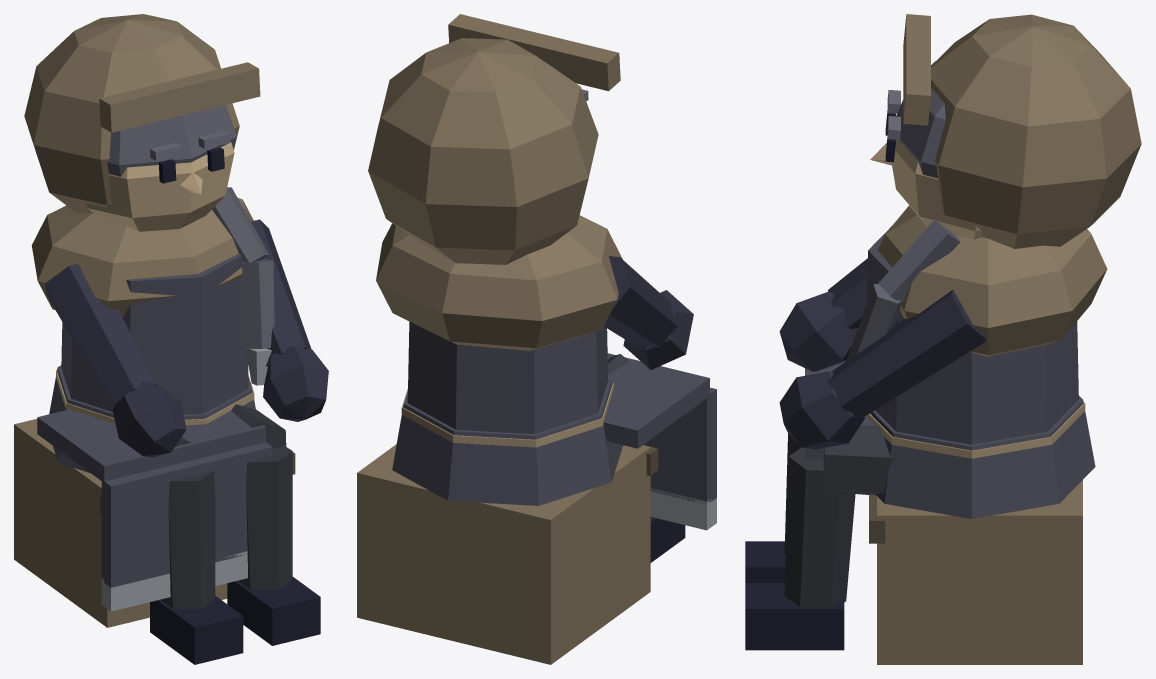
File: wenna_coll.glb
3 renders of one model, left to right at view 1: azimuth 30°, elevation 25°; view 2: azimuth 150°, elevation 25°; view 3: azimuth 270°, elevation 25°, orthographic. The views are drawn at different scales.
Visible parts, largest first — view 1: Head, Torso, LegL, Stool, LegR, ArmR, ArmL; view 2: Torso, Head, Stool, LegL, ArmR, LegR; view 3: Torso, Head, Stool, LegL, ArmL, ArmR, LegR.
Part boxes in pixels (left/top/right/bottom): Head: left=24, top=14, right=260, bottom=231; Torso: left=31, top=187, right=274, bottom=473; LegL: left=37, top=404, right=320, bottom=645; Stool: left=14, top=419, right=295, bottom=627; LegR: left=150, top=437, right=243, bottom=664; ArmR: left=45, top=263, right=186, bottom=457; ArmL: left=251, top=219, right=328, bottom=421; Torso: left=376, top=215, right=622, bottom=505; Head: left=368, top=14, right=620, bottom=264; Stool: left=357, top=444, right=658, bottom=664; LegL: left=603, top=353, right=716, bottom=530; ArmR: left=604, top=256, right=693, bottom=369; LegR: left=607, top=354, right=685, bottom=562; Torso: left=847, top=205, right=1107, bottom=518; Head: left=870, top=14, right=1141, bottom=248; Stool: left=869, top=480, right=1082, bottom=664; LegL: left=745, top=360, right=893, bottom=650; ArmL: left=779, top=289, right=985, bottom=449; ArmR: left=779, top=258, right=867, bottom=371; LegR: left=745, top=433, right=801, bottom=582.
Size of the model in its own units: 0.7166 by 1.58 by 0.962.
